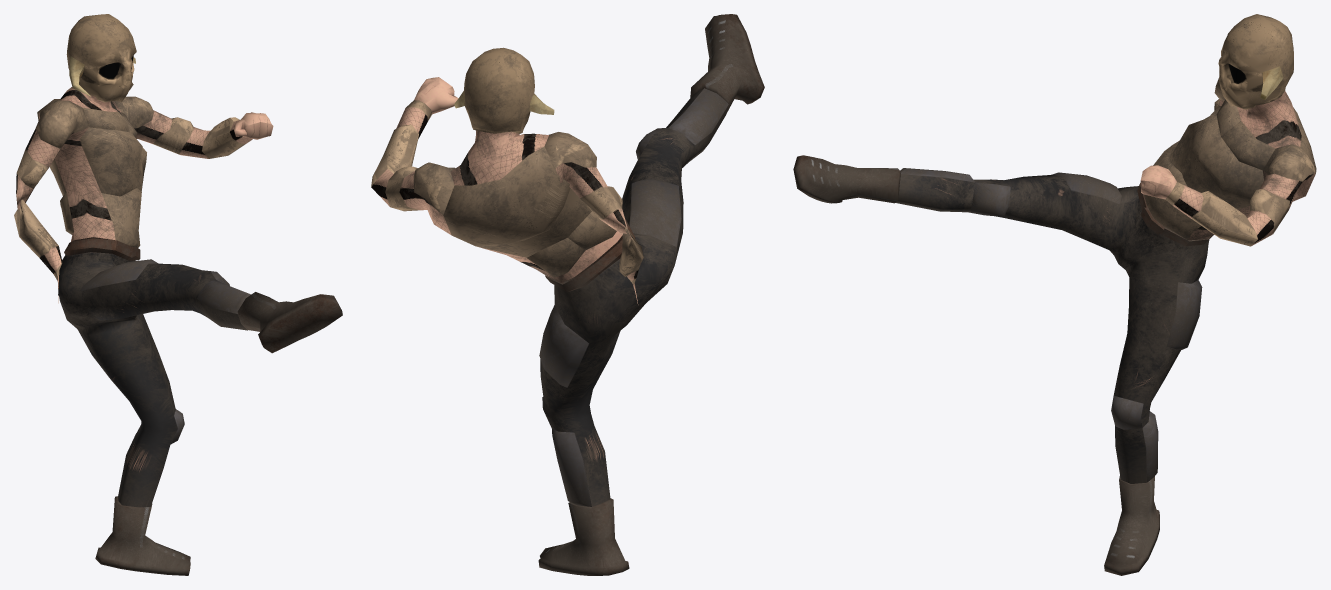
Rendered from Anim_ataque_f2_npc1.0017.obj.
3 renders of one model, left to right at view 1: azimuth 30°, elevation 25°; view 2: azimuth 150°, elevation 25°; view 3: azimuth 270°, elevation 25°, orthographic. The views are drawn at different scales.
Parts seen in each view (by area): view 1: NPC2; view 2: NPC2; view 3: NPC2.
Boxes of the visible parts, x1,y1,x2,y2 form: NPC2: (14,14,342,575); NPC2: (371,14,764,575); NPC2: (793,14,1316,575).
Size of the model in its own units: 4.23 by 9.07 by 7.9.
